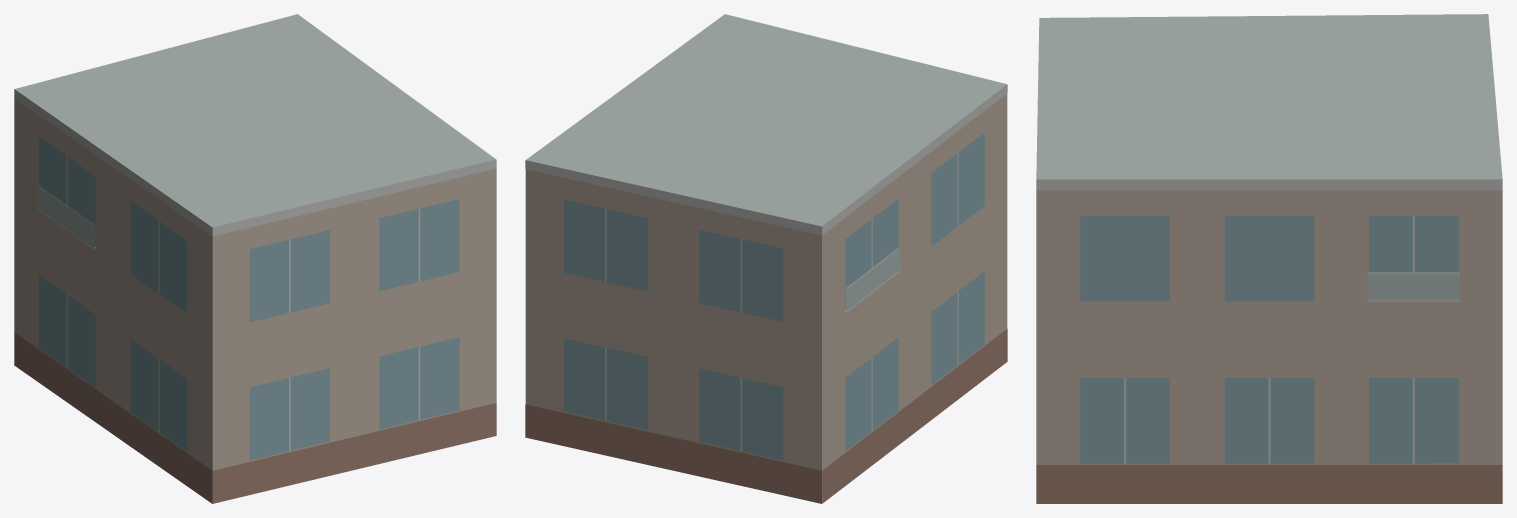
The model's file is survey-upis-32761669.glb.
3 renders of one model, left to right at view 1: azimuth 30°, elevation 25°; view 2: azimuth 150°, elevation 25°; view 3: azimuth 270°, elevation 25°, orthographic. The views are drawn at different scales.
Visible parts, largest first — view 1: survey-upis-32761669.tmp; view 2: survey-upis-32761669.tmp; view 3: survey-upis-32761669.tmp.
Part boxes in pixels (x1,y1,x2,y2): survey-upis-32761669.tmp: (14, 14, 496, 503); survey-upis-32761669.tmp: (525, 14, 1007, 503); survey-upis-32761669.tmp: (1036, 14, 1502, 503).
Size of the model in its own units: 8.27 by 7.5 by 9.79.
